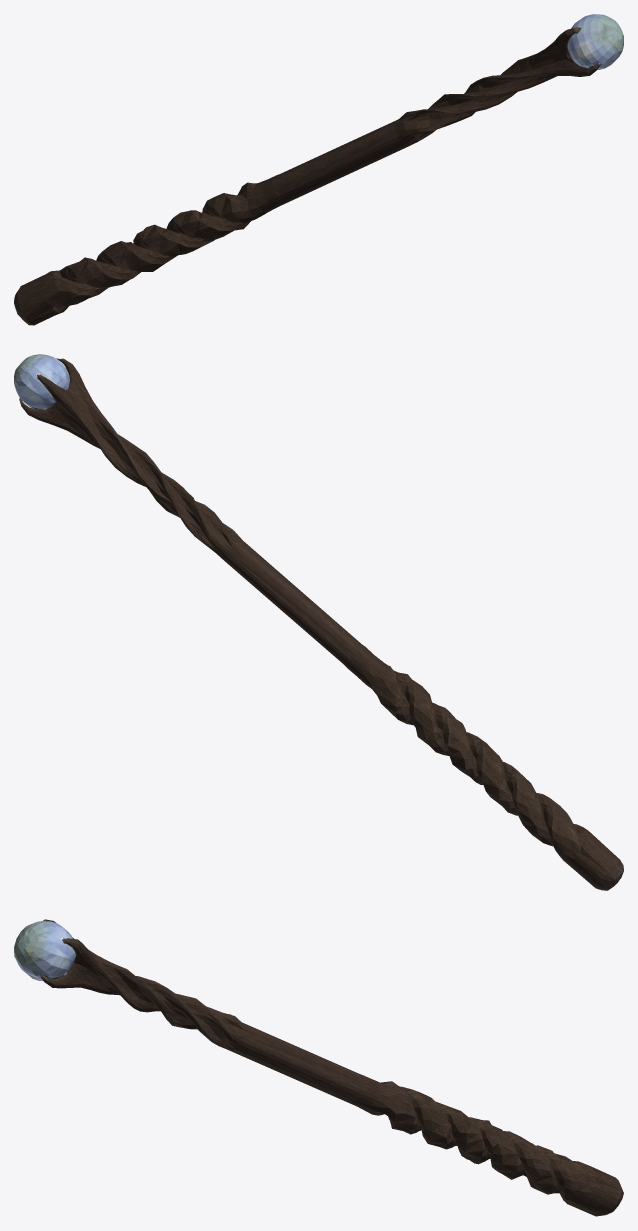
Rendered from ewm_magicwand.glb.
3 renders of one model, top to bottom at view 1: azimuth 30°, elevation 25°; view 2: azimuth 210°, elevation 25°; view 3: azimuth 270°, elevation 25°, orthographic. The views are drawn at different scales.
Visible parts, largest first — view 1: ewm_magicwand; view 2: ewm_magicwand; view 3: ewm_magicwand.
Boxes of the visible parts, box(x1,y1,x2,y2) form: ewm_magicwand: box(14, 14, 623, 325); ewm_magicwand: box(14, 354, 623, 890); ewm_magicwand: box(14, 919, 623, 1216).
Size of the model in its own units: 0.1813 by 0.2097 by 0.2561.
Materials: 1 (1 with a texture image).
